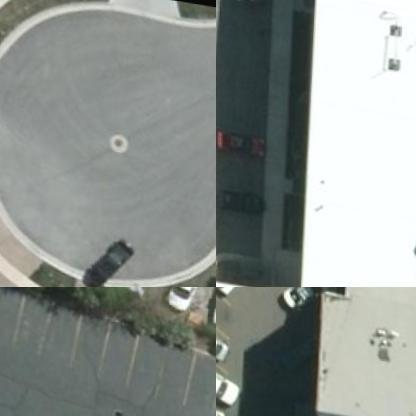car: (80, 231, 133, 285), (278, 287, 336, 314), (216, 180, 262, 213), (216, 124, 262, 154), (154, 287, 205, 308), (216, 369, 239, 409), (216, 334, 226, 365), (216, 287, 235, 299)
